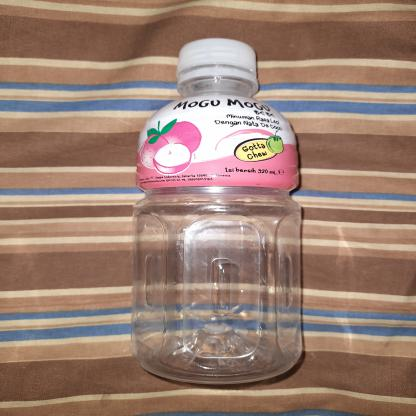bottle: (125, 35, 309, 389)
